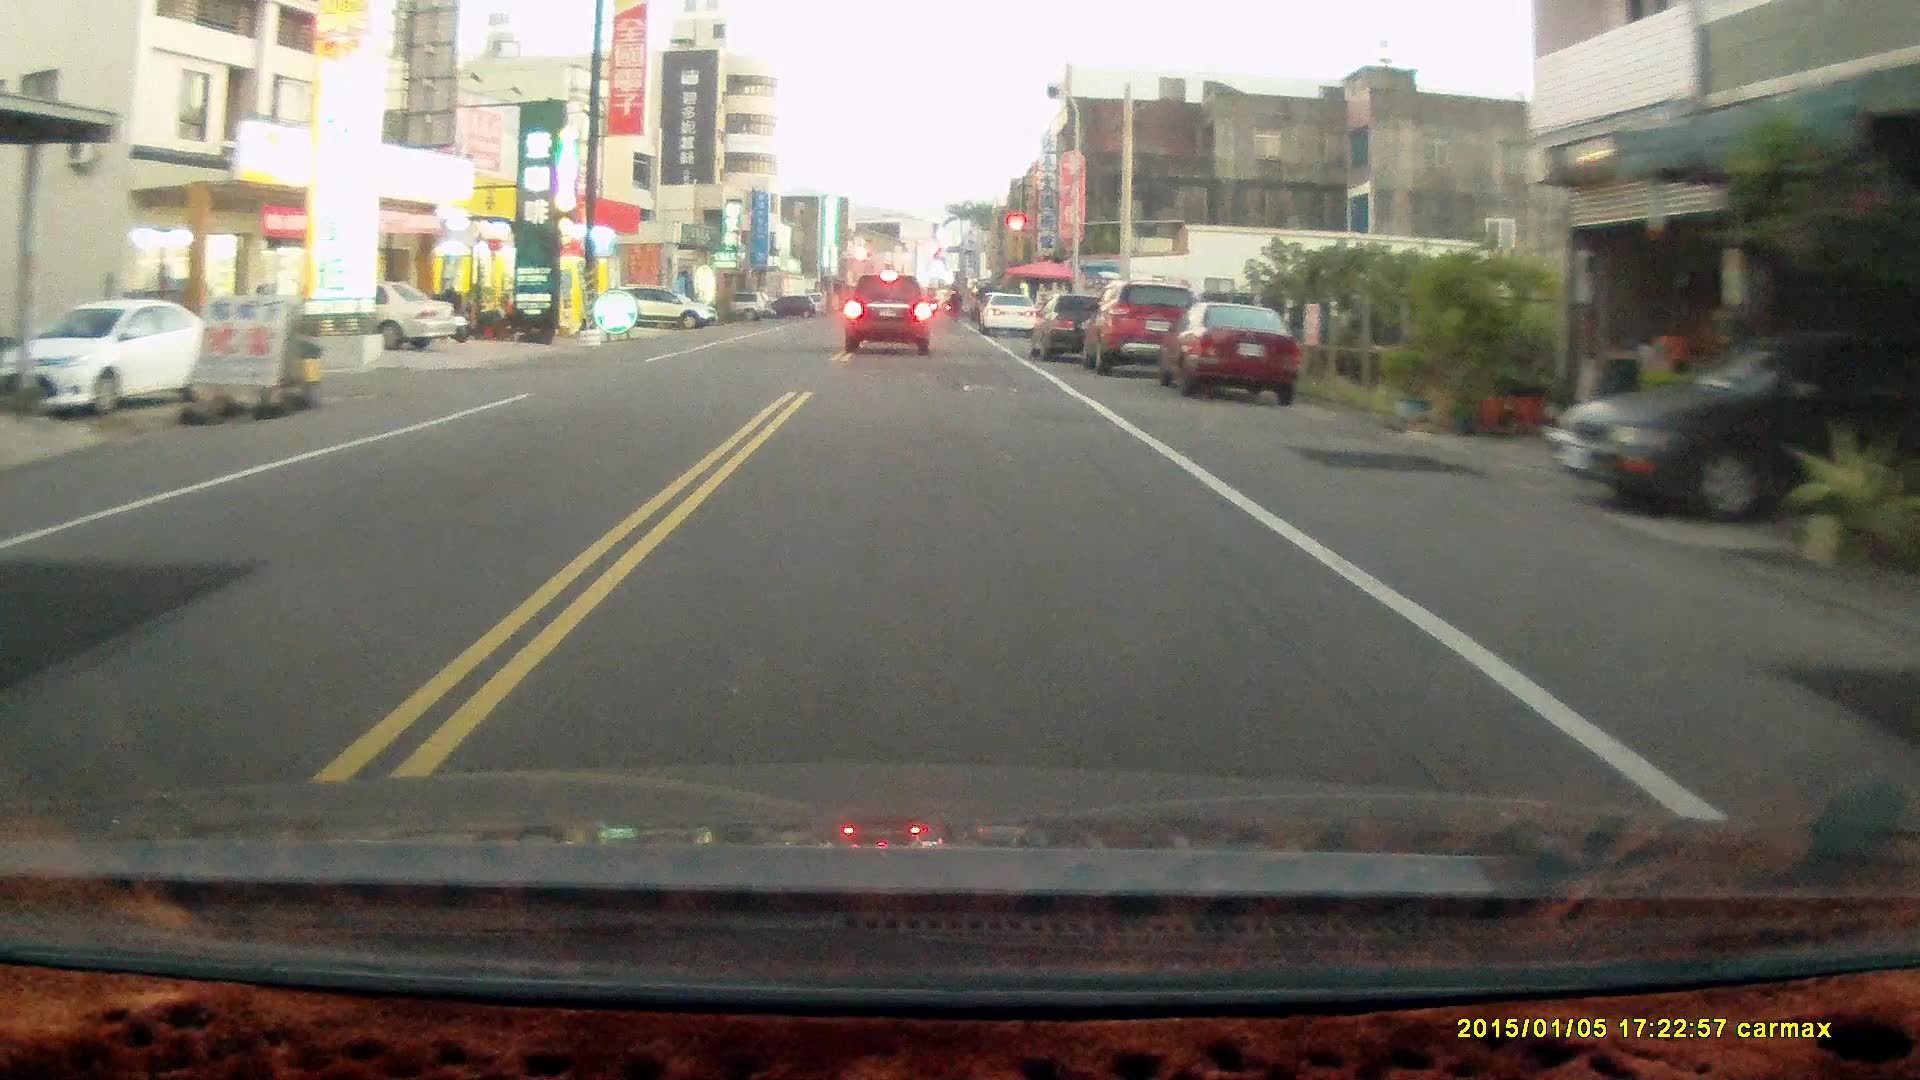vehicle: (1549, 331, 1920, 522), (11, 298, 237, 415), (1154, 301, 1305, 404), (284, 278, 462, 352), (1084, 278, 1200, 375), (844, 276, 934, 357), (1030, 291, 1135, 360), (618, 284, 713, 332), (978, 290, 1040, 338)
